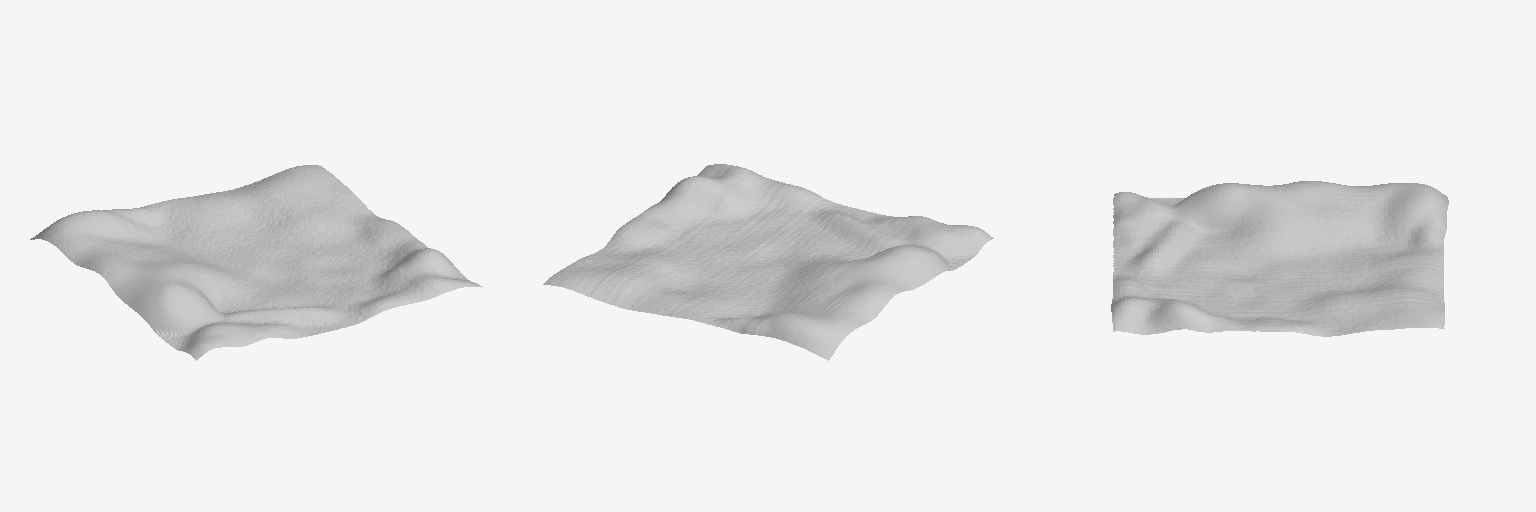
File: terrain.obj
The picture shows the model from 3 angles: view 1: azimuth 30°, elevation 25°; view 2: azimuth 150°, elevation 25°; view 3: azimuth 270°, elevation 25°; orthographic projection.
Visible parts, largest first — view 1: Plane; view 2: Plane; view 3: Plane.
Boxes of the visible parts, <box> form: Plane: <box>30,165,482,360</box>; Plane: <box>543,164,993,360</box>; Plane: <box>1111,181,1448,336</box>.
Bounding box in the file's own units: 101 × 10.36 × 102.